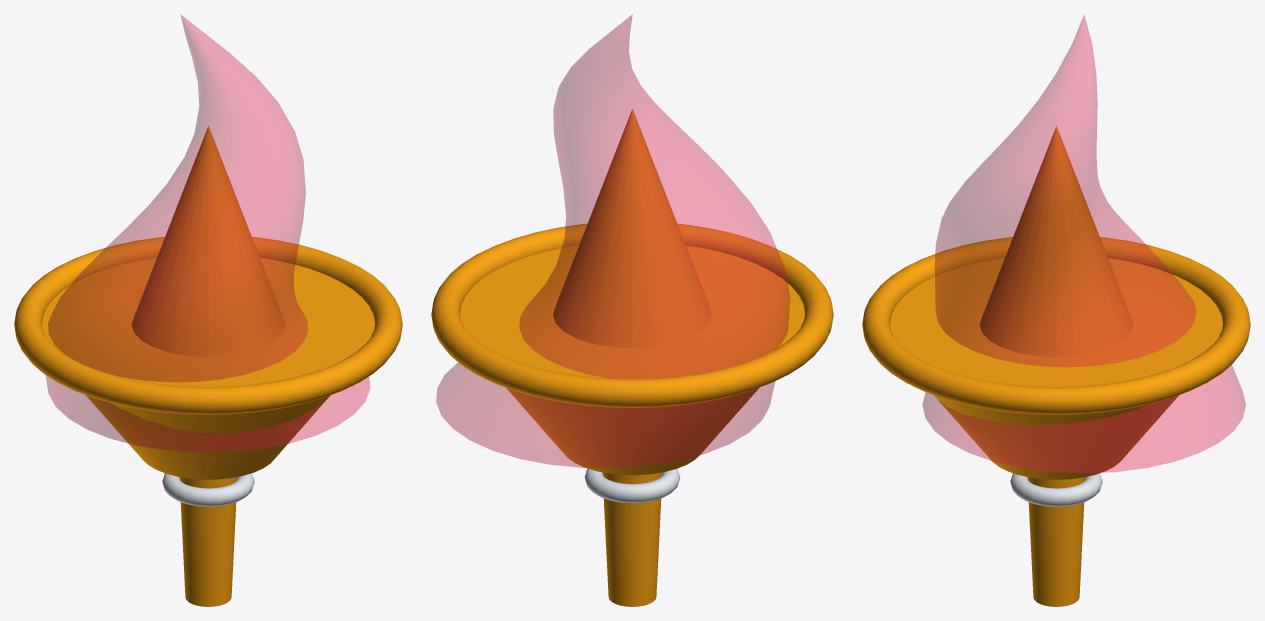
Rendered from flame.glb.
3 renders of one model, left to right at view 1: azimuth 30°, elevation 25°; view 2: azimuth 150°, elevation 25°; view 3: azimuth 270°, elevation 25°, orthographic. The views are drawn at different scales.
Parts seen in each view (by area): view 1: FlameOuter, BrazierBowl, FlameCore, BrazierRim, TorchHandle, FlameModel; view 2: FlameOuter, BrazierBowl, FlameCore, BrazierRim, TorchHandle, FlameModel; view 3: FlameOuter, BrazierBowl, FlameCore, BrazierRim, TorchHandle, FlameModel.
Part boxes in pixels (left/top/right/bottom): FlameOuter: left=46, top=15, right=369, bottom=452; BrazierBowl: left=42, top=258, right=374, bottom=479; FlameCore: left=131, top=126, right=285, bottom=357; BrazierRim: left=14, top=237, right=402, bottom=414; TorchHandle: left=179, top=477, right=237, bottom=606; FlameModel: left=162, top=473, right=254, bottom=506; FlameOuter: left=436, top=15, right=789, bottom=467; BrazierBowl: left=460, top=245, right=804, bottom=475; FlameCore: left=553, top=109, right=711, bottom=348; BrazierRim: left=431, top=223, right=833, bottom=407; TorchHandle: left=602, top=472, right=662, bottom=606; FlameModel: left=584, top=468, right=680, bottom=503; FlameOuter: left=922, top=15, right=1245, bottom=472; BrazierBowl: left=890, top=258, right=1222, bottom=479; FlameCore: left=979, top=126, right=1133, bottom=357; BrazierRim: left=862, top=237, right=1250, bottom=414; TorchHandle: left=1027, top=477, right=1085, bottom=606; FlameModel: left=1010, top=473, right=1102, bottom=506.
Bounding box in the file's own units: 1.68 × 2.75 × 1.68.
